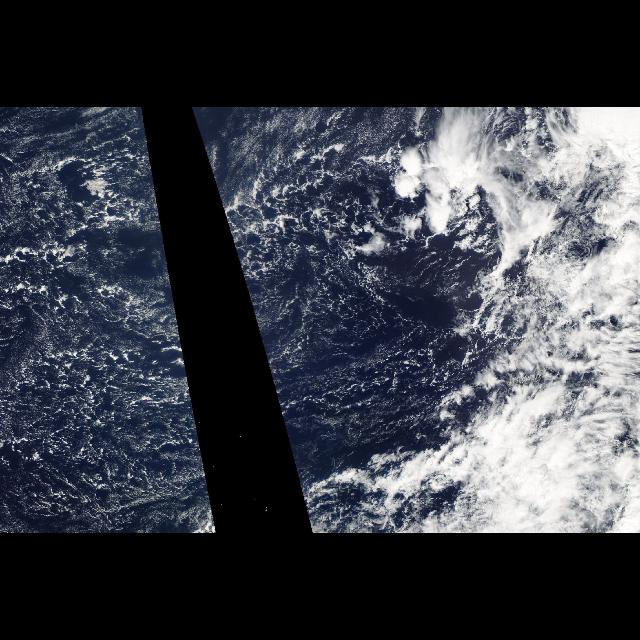Gravel: (194, 120, 426, 530), (0, 120, 216, 530)
